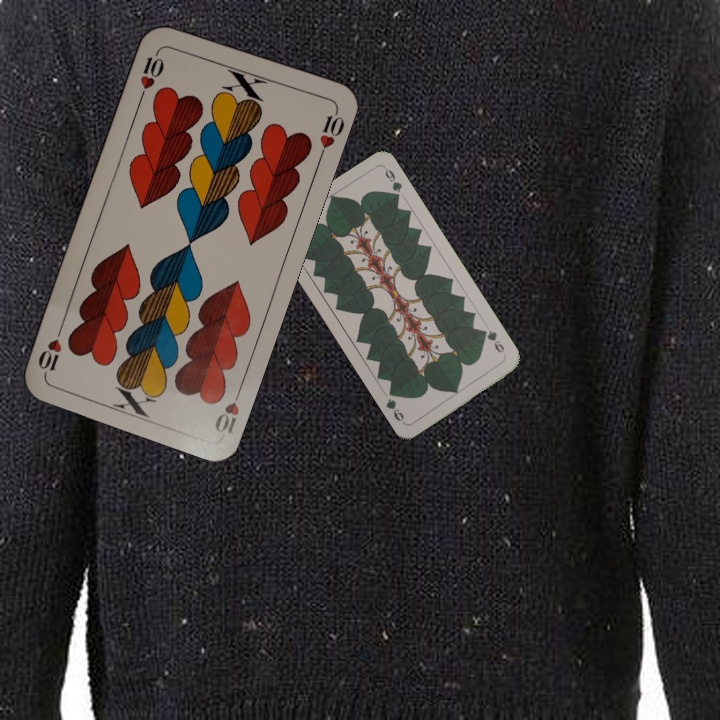G9: (478, 326, 509, 359)
H10: (211, 381, 245, 438), (135, 44, 167, 102)
